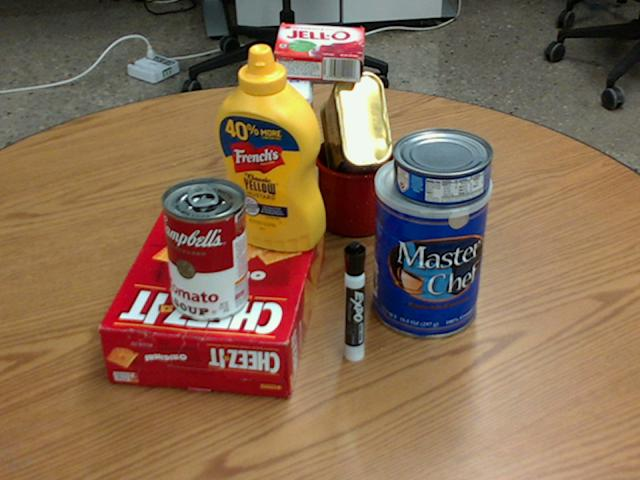cracker_box: (100, 198, 325, 398)
gelatin_box: (270, 24, 365, 82)
large_marker: (343, 241, 366, 361)
master_chef_can: (370, 151, 490, 337)
mug: (315, 133, 418, 235)
mustard_bottle: (214, 44, 324, 250)
potted_meat_can: (319, 73, 392, 189)
sugar_box: (268, 56, 312, 245)
tomato_soup_can: (161, 177, 249, 320)
tuna_fish_can: (392, 128, 492, 206)
